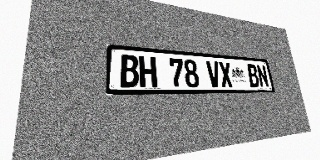7: (168, 58, 185, 88)
8: (183, 59, 200, 88)
B: (120, 54, 139, 88), (246, 64, 260, 87)
H: (139, 56, 157, 88)
N: (256, 64, 269, 87)
V: (206, 61, 221, 87)
X: (218, 62, 233, 87)
